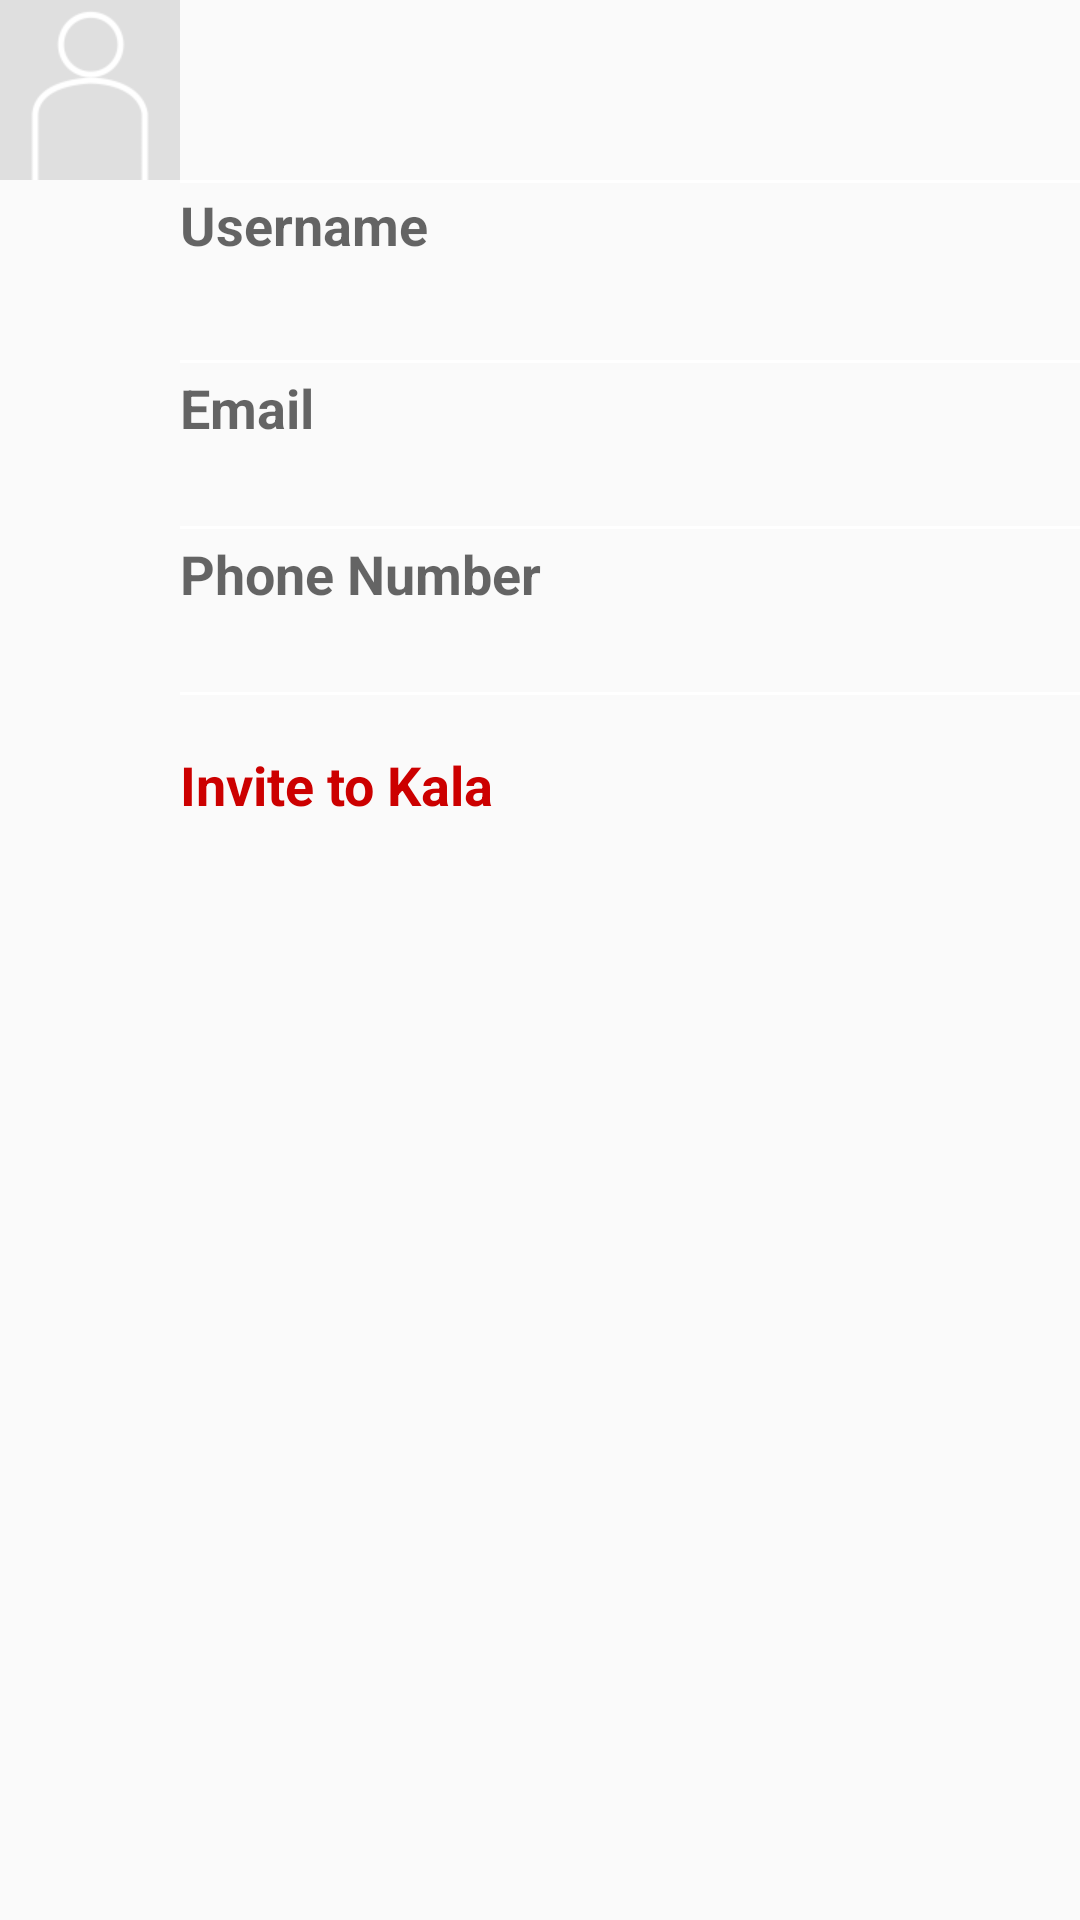

Where icons sit on this 1080*1920 app screen, as rect(x1, y1, x2, y2):
Default Profile Picture: rect(0, 0, 180, 180)
